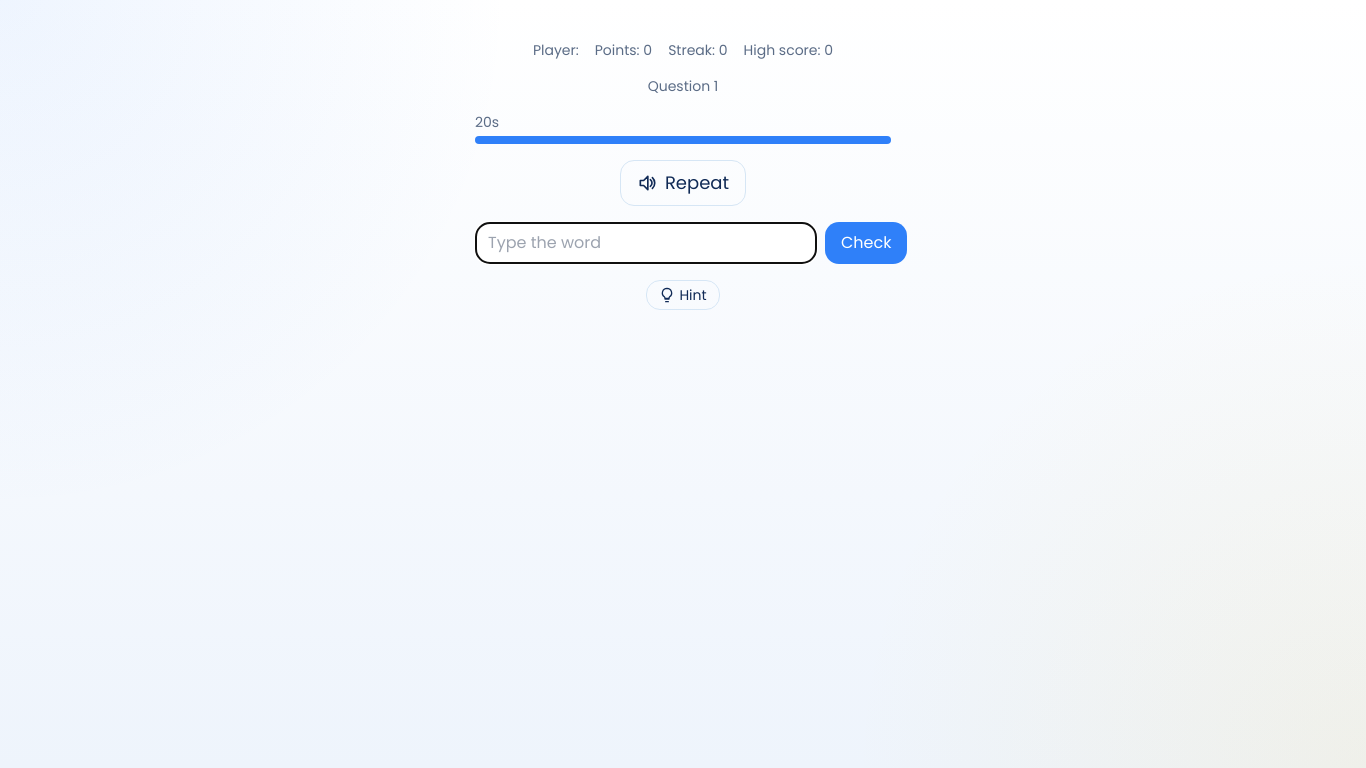
Test: ListenAndTypeGame (Spelling Bee) › a right answer ignores case and scores the difficulty points
Step 1. Type "  CAT " into the field → (646, 243), box left=475, top=222, right=817, bottom=264
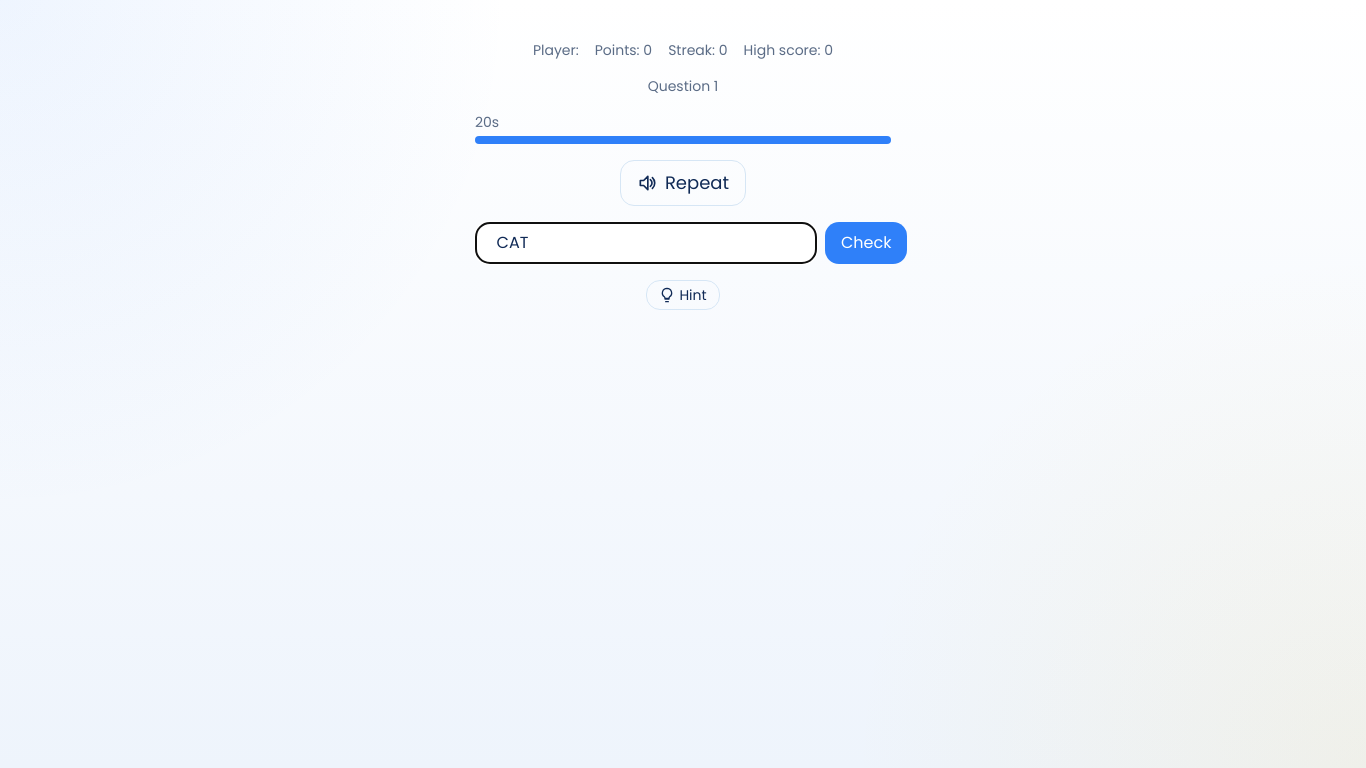
Step 2. Click the button "Check" → (866, 243), box left=825, top=222, right=908, bottom=264
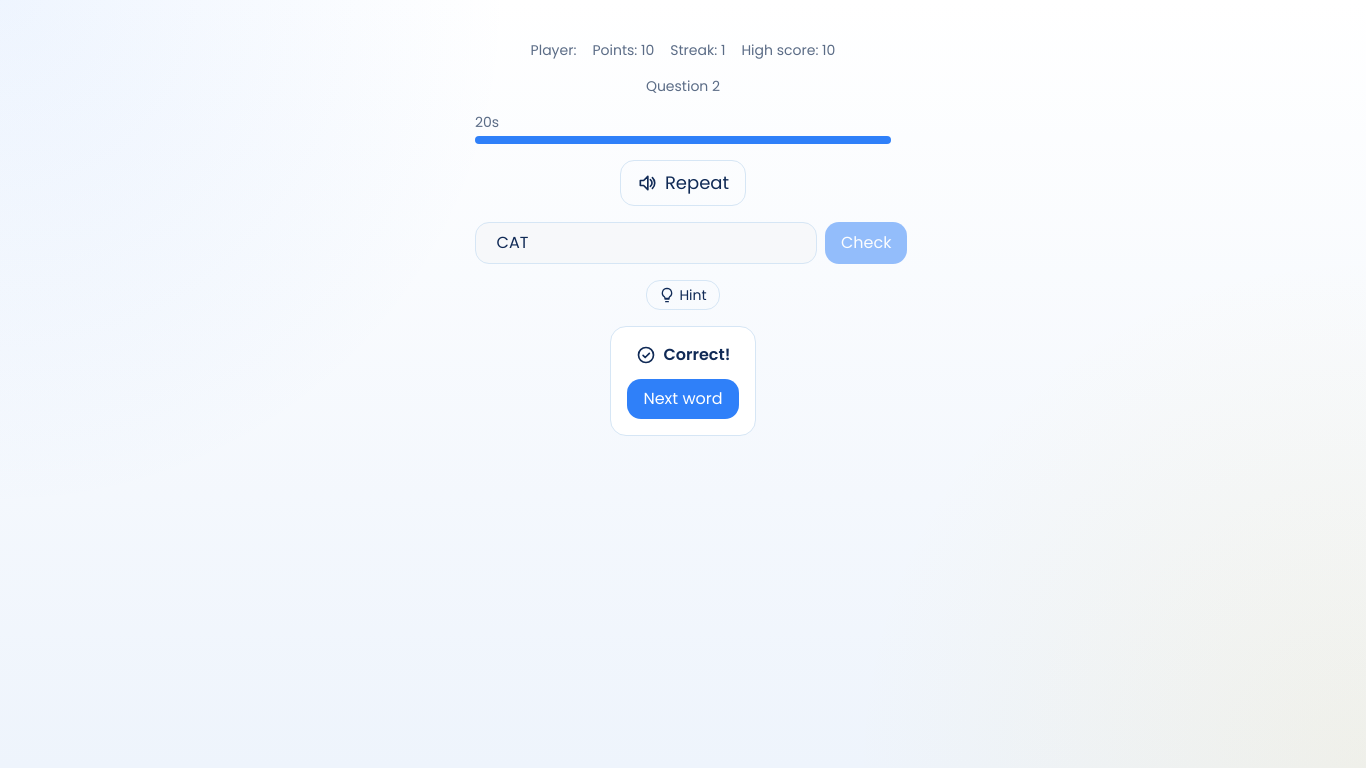
Now the text "Correct!" is shown, box left=636, top=343, right=730, bottom=367
